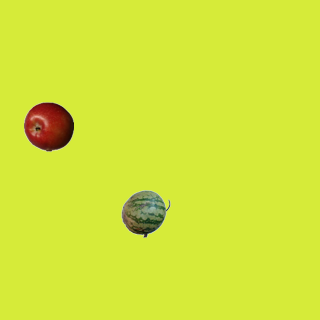Apple Braeburn: (23, 101, 73, 151)
Watermelon: (120, 188, 170, 238)
